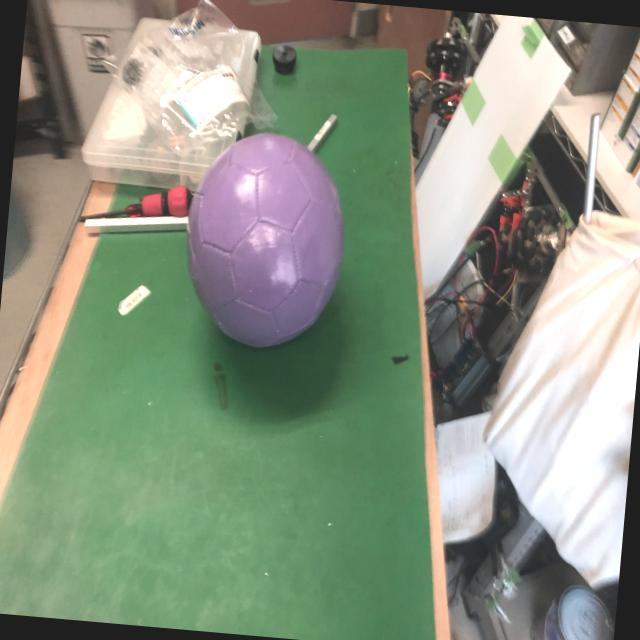purple_ball: (175, 122, 354, 355)
